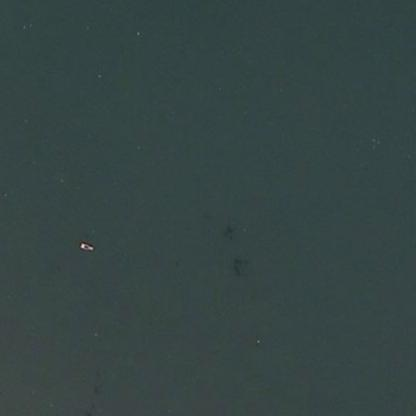ship: (75, 236, 96, 256)
